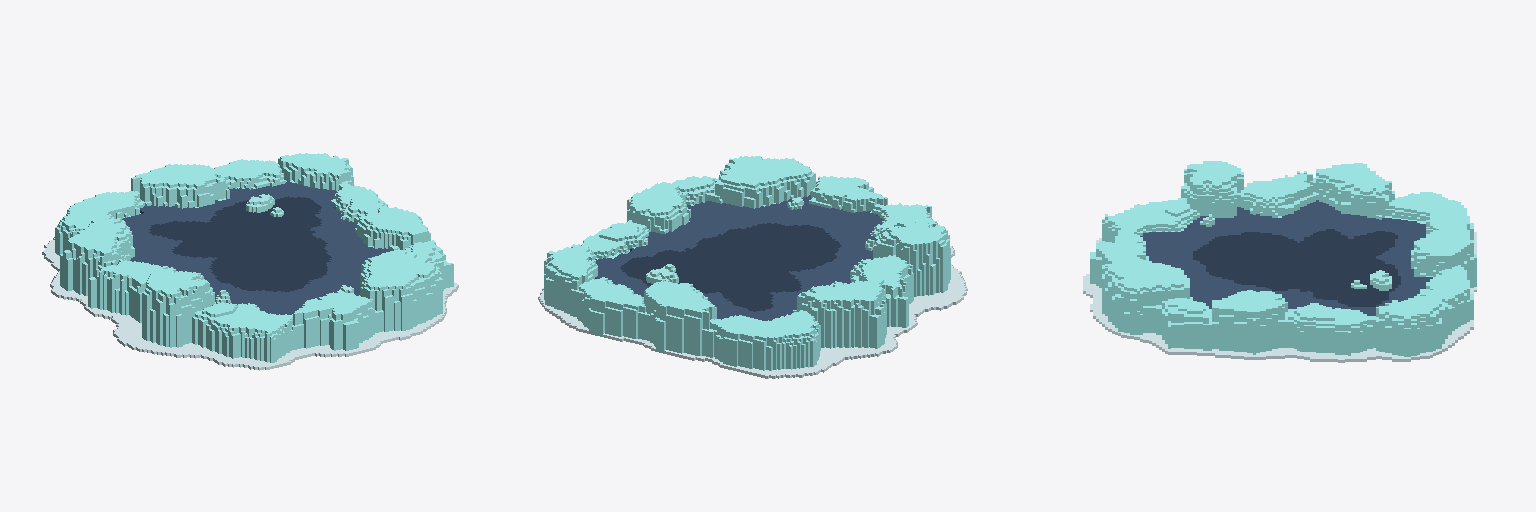
3 renders of one model, left to right at view 1: azimuth 30°, elevation 25°; view 2: azimuth 150°, elevation 25°; view 3: azimuth 270°, elevation 25°, orthographic.
Parts seen in each view (by area): view 1: Env_Location_ColdPool; view 2: Env_Location_ColdPool; view 3: Env_Location_ColdPool.
Boxes of the visible parts, x1=… form: Env_Location_ColdPool: x1=42, y1=153, x2=458, y2=370; Env_Location_ColdPool: x1=538, y1=156, x2=967, y2=378; Env_Location_ColdPool: x1=1083, y1=161, x2=1476, y2=362.
Size of the model in its own units: 12 by 1.9 by 12.5.
Materials: 1 (1 with a texture image).